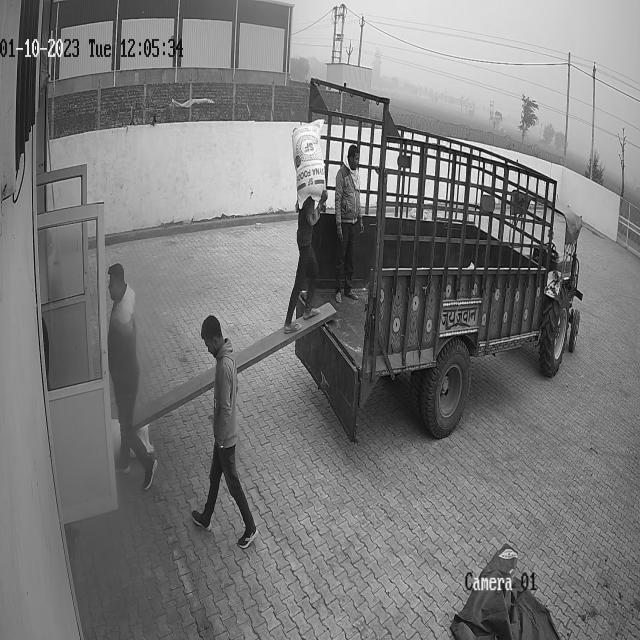sack: (291, 118, 326, 210)
